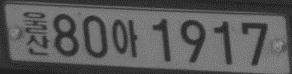0: (82, 14, 108, 58)
1: (151, 18, 176, 61), (212, 21, 237, 64)
7: (241, 21, 268, 66)
8: (52, 12, 79, 57)
9: (180, 18, 206, 62)
아: (112, 19, 138, 57)
울산_V: (22, 10, 50, 56)
